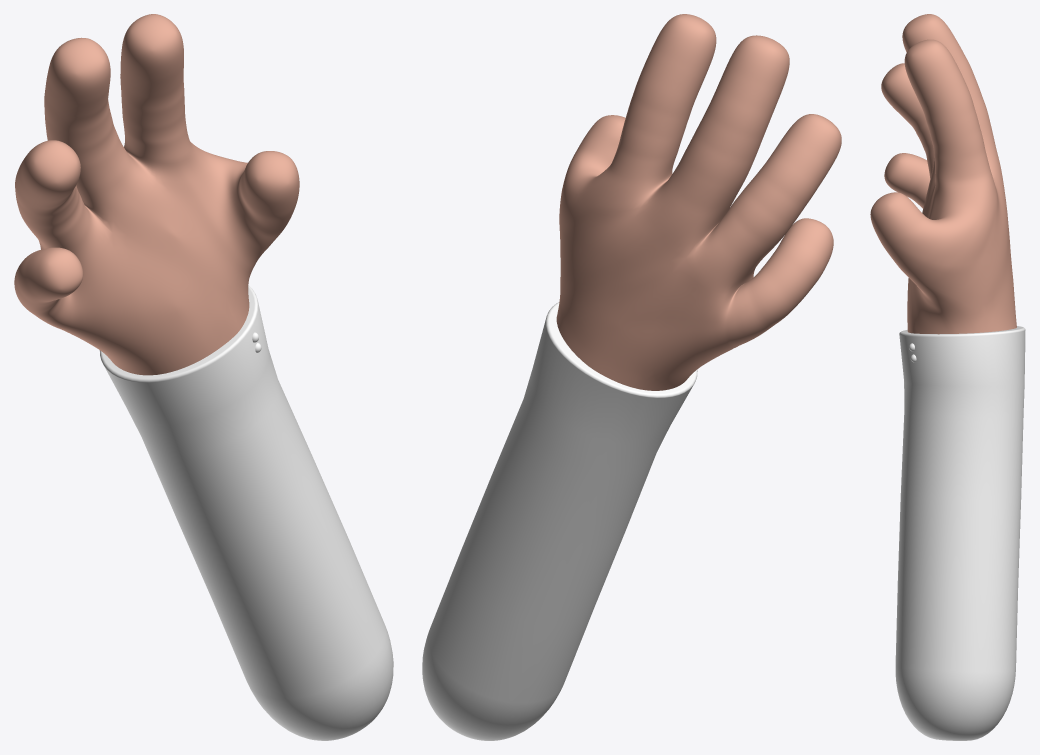
The model's file is emoji_shirt.glb.
The picture shows the model from 3 angles, left to right: view 1: azimuth 30°, elevation 25°; view 2: azimuth 150°, elevation 25°; view 3: azimuth 270°, elevation 25°; orthographic projection. The views are drawn at different scales.
Visible parts, largest first — view 1: hand, sleeve; view 2: hand, sleeve; view 3: sleeve, hand.
Boxes of the visible parts, x1,y1,x2,y2 form: hand: [14, 14, 299, 375]; sleeve: [99, 285, 393, 740]; hand: [556, 14, 841, 390]; sleeve: [422, 302, 697, 740]; sleeve: [895, 326, 1025, 740]; hand: [870, 14, 1016, 334].
Size of the model in its own units: 4.5 by 8.59 by 1.94.
